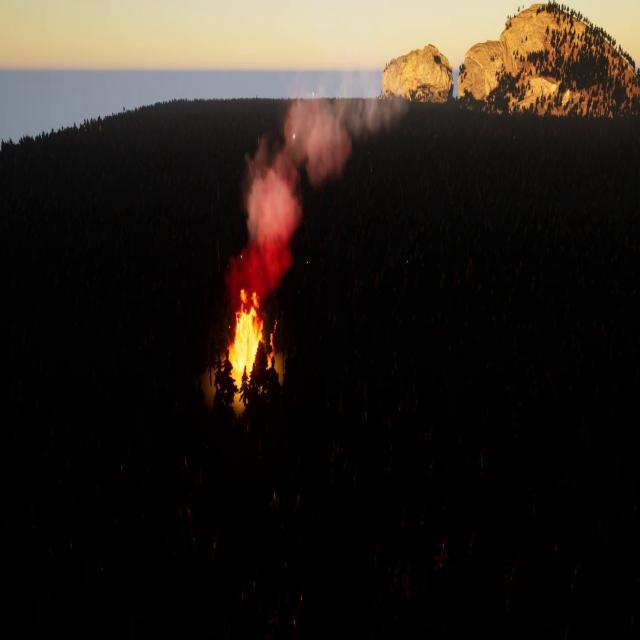fire: (226, 291, 277, 385)
smoke: (232, 86, 404, 295)
